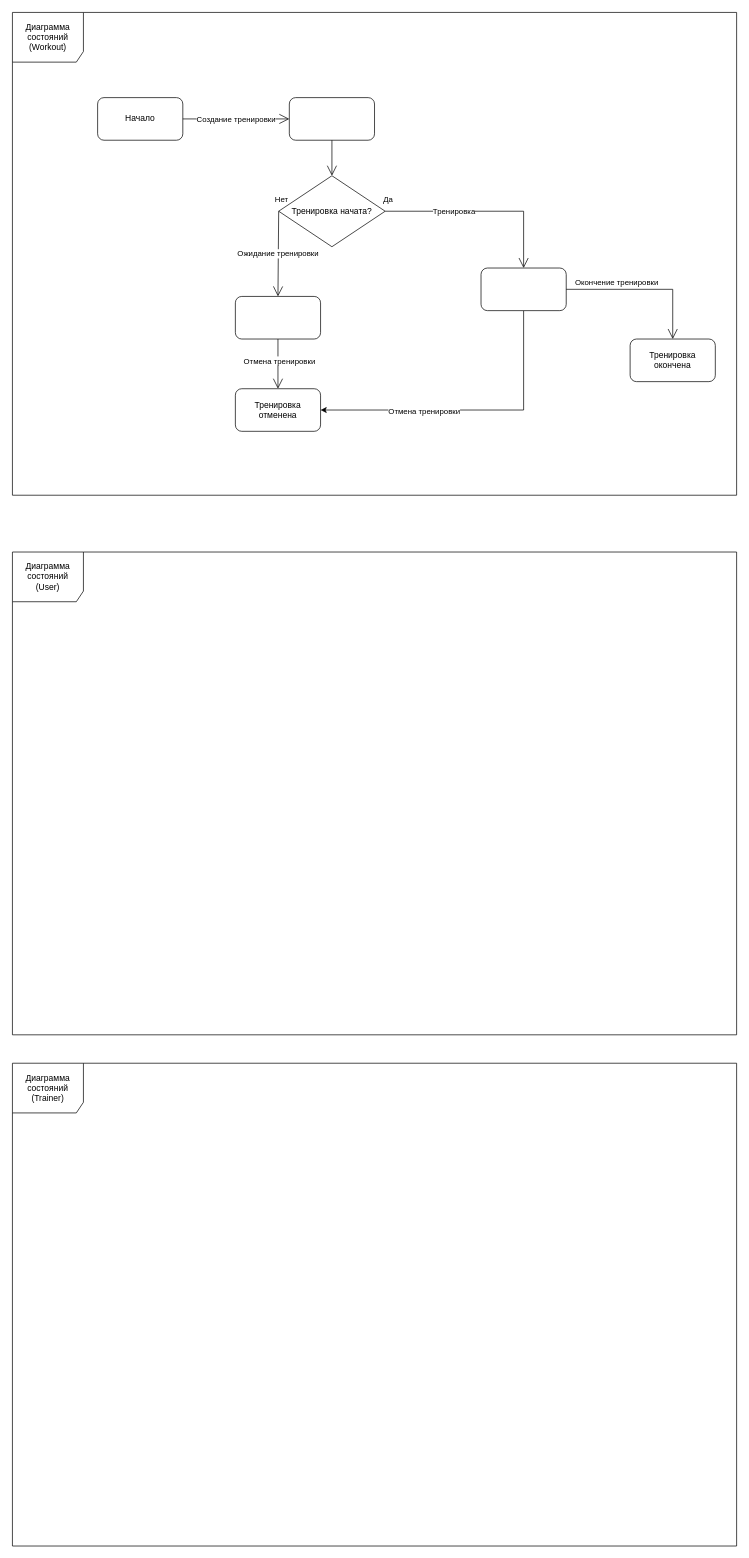
The diagram is 749 pixels wide and 1558 high, and some of its shapes have lost their labels. Each missing label, with the centre of its shape:
"Тренировка запланирована" belongs at (x=278, y=317).
"Тренировка идёт" belongs at (x=523, y=289).
"Тренировка создана" belongs at (x=332, y=118).
